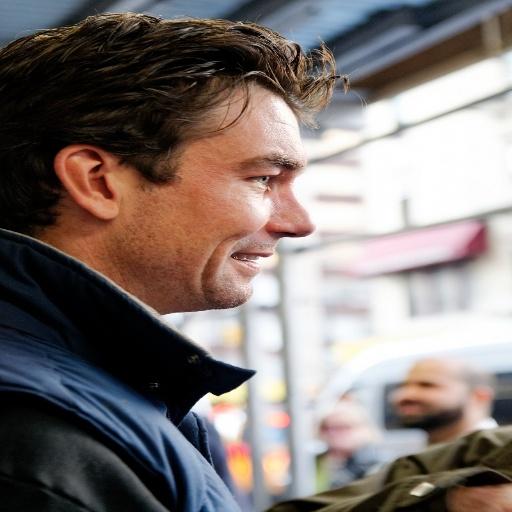hand: (444, 483, 511, 511)
